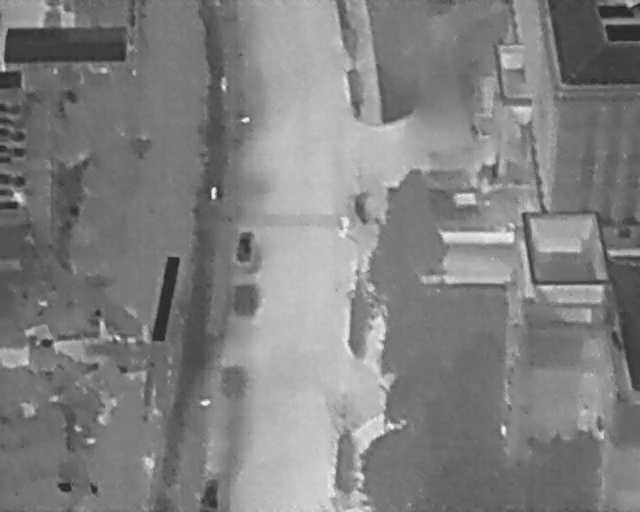Car: (235, 230, 254, 263)
Person: (220, 75, 227, 91), (210, 185, 217, 200)
